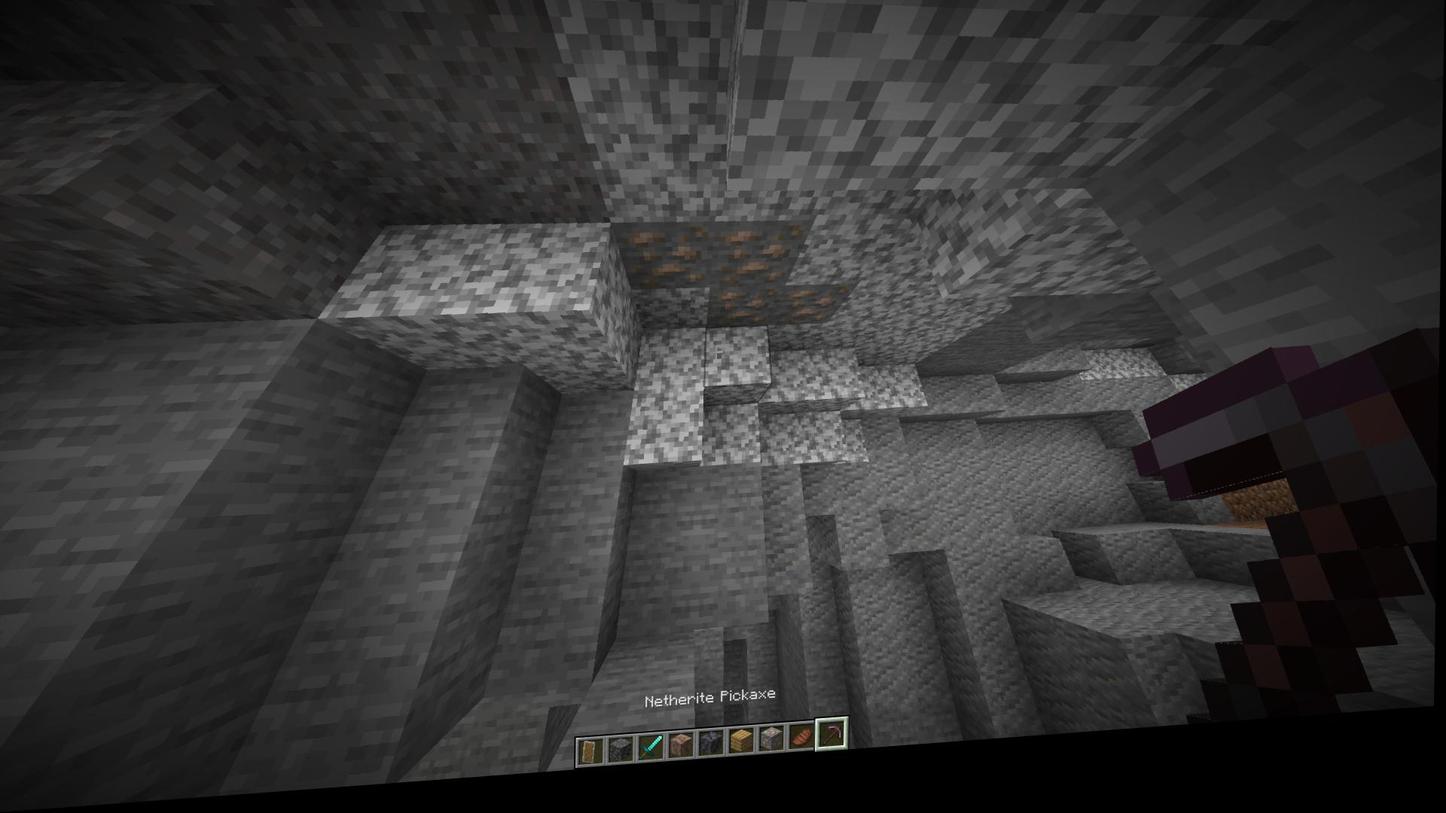iron ore: (618, 224, 711, 305), (718, 230, 800, 302), (771, 292, 849, 341), (712, 293, 776, 343)
